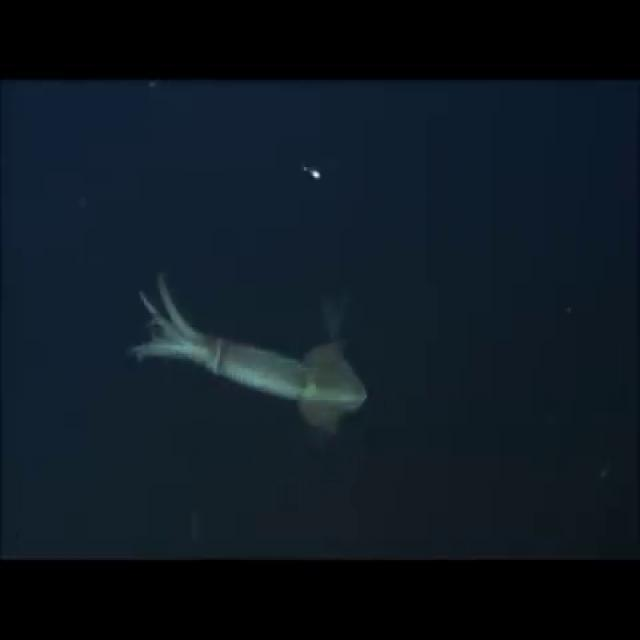SQUID: (88, 255, 410, 470)
